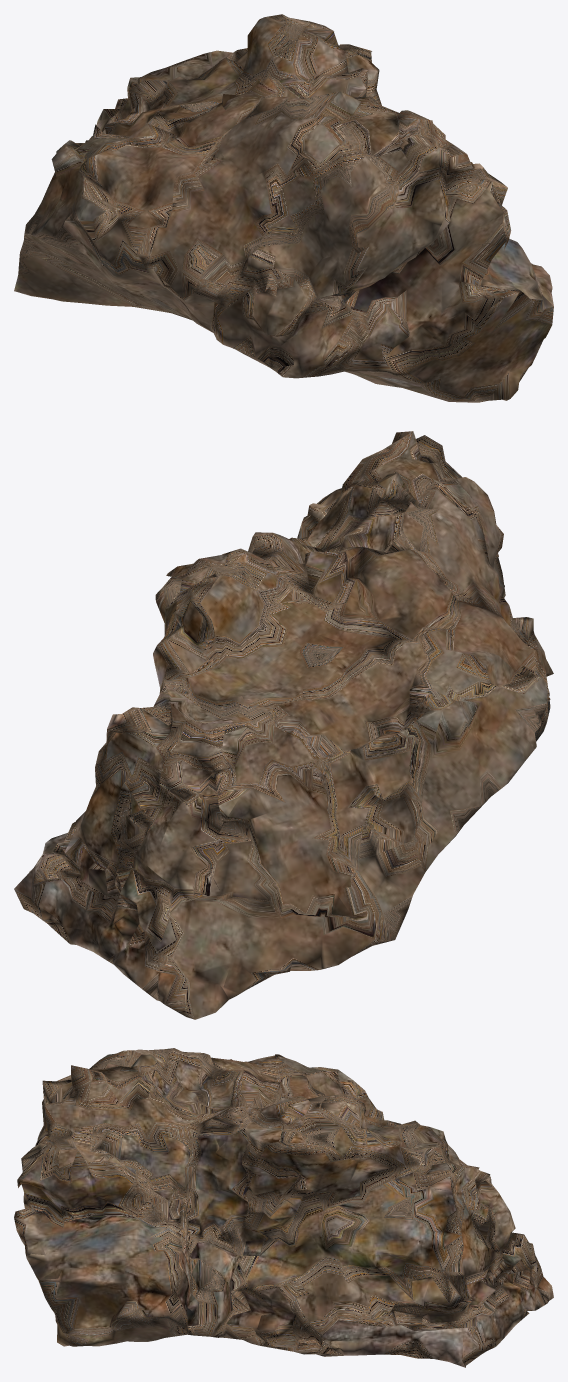
File: boulder_01_wood.glb
The picture shows the model from 3 angles, top to bottom: view 1: azimuth 30°, elevation 25°; view 2: azimuth 150°, elevation 25°; view 3: azimuth 270°, elevation 25°; orthographic projection. The views are drawn at different scales.
Visible parts, largest first — view 1: boulder_01; view 2: boulder_01; view 3: boulder_01.
Boxes of the visible parts, x1,y1,x2,y2 form: boulder_01: (14, 14, 553, 402); boulder_01: (14, 431, 553, 1019); boulder_01: (14, 1048, 553, 1367).
Bounding box in the file's own units: 1.27 × 0.9964 × 1.82.
1 material, 1 textured.
